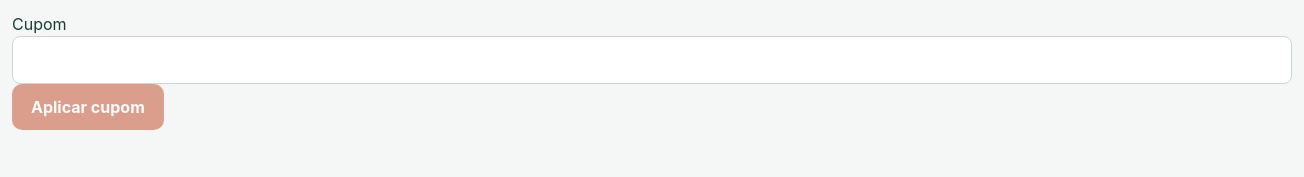
Test: design system da loja › invalida prévia do cupom quando a taxa muda
Type "teste" into the field labelled "Cupom" at (652, 60), box [12,36,1292,84]
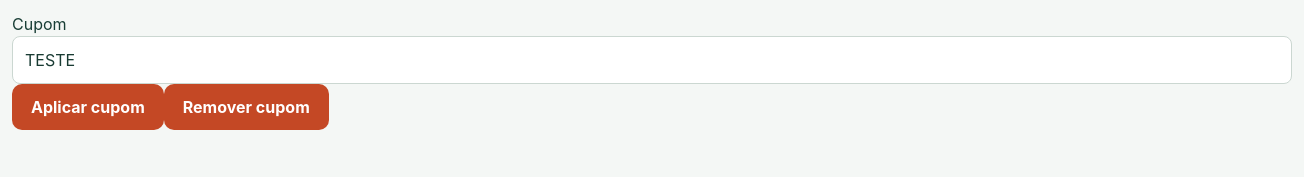
Click the button "Aplicar cupom" at (88, 107), box [12,84,164,130]
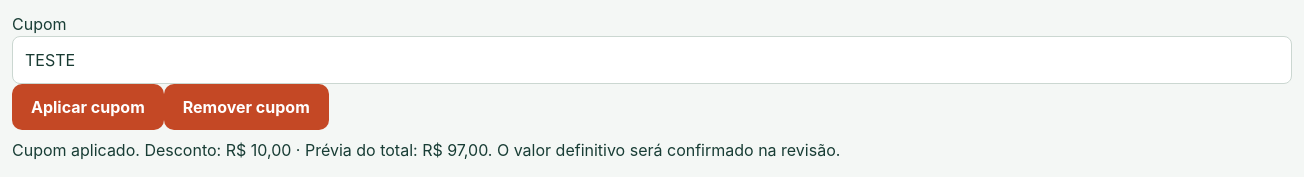
Expected: the message shows "97,00", [422,140,488,160]
